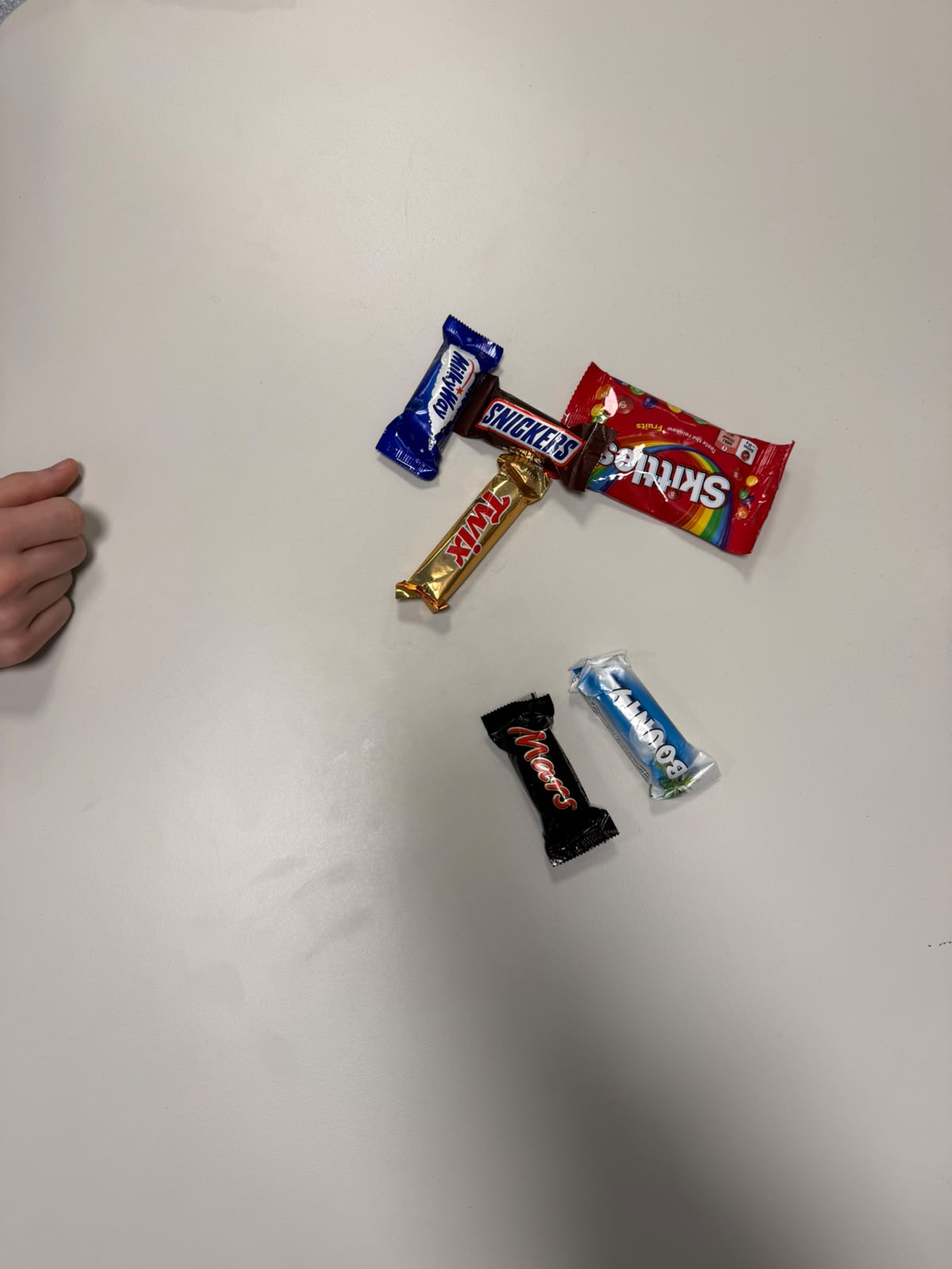Bounty: (549, 661, 637, 863)
Mars: (465, 711, 548, 906)
MilkyWay: (461, 279, 540, 483)
Skittles: (584, 367, 831, 481)
Snickers: (476, 366, 632, 443)
Twix: (509, 448, 562, 637)
